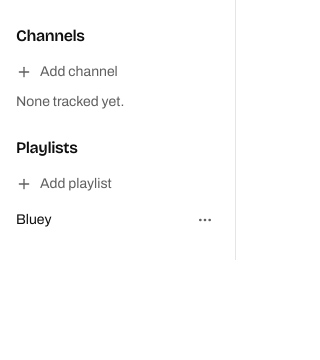
Sidebar › excludes a playlist from home from its row menu
The width and height of the screenshot is (320, 360).
Click the button named "Actions for Bluey" at x=205, y=220, box [191, 206, 219, 234]
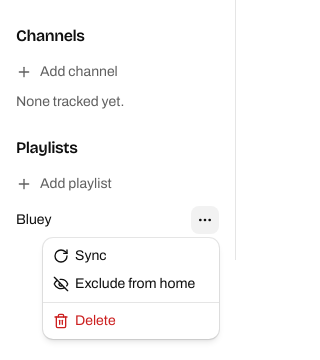
Click the menu item "Exclude from home" at x=124, y=284, box [53, 276, 195, 292]
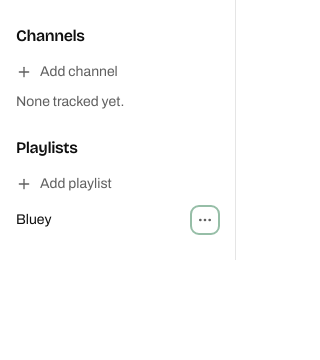
Click the button named "Actions for Bluey" at x=205, y=220, box [191, 206, 219, 234]
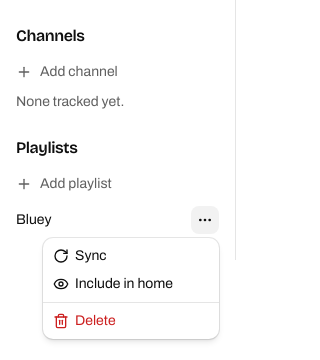
expect the menu item "Include in home" is shown: met, box [53, 276, 173, 292]
